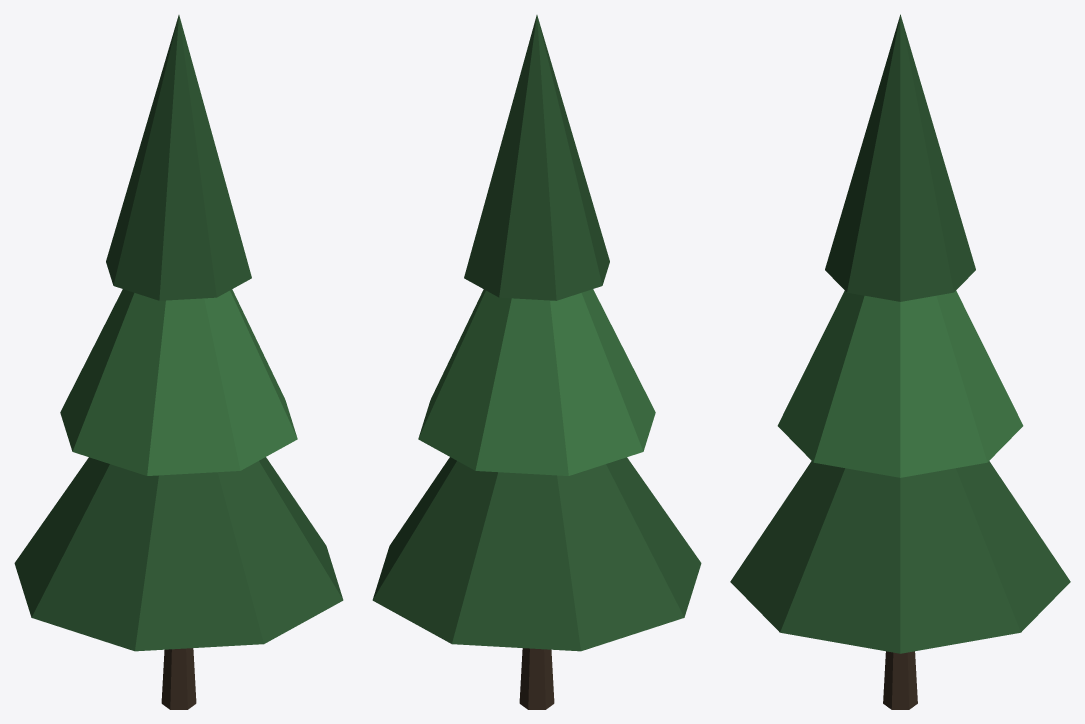
File: conifer-v2-spring.glb
3 views of the same model, side by side, from view 1: azimuth 30°, elevation 25°; view 2: azimuth 150°, elevation 25°; view 3: azimuth 270°, elevation 25° (orthographic).
Visible parts, largest first — view 1: conifer_v2; view 2: conifer_v2; view 3: conifer_v2.
Part boxes in pixels (x1,y1,x2,y2): conifer_v2: (14,15,343,709); conifer_v2: (372,15,701,709); conifer_v2: (730,14,1070,709).
Size of what is drawn, in the model's own units: 5.07 by 11.33 by 5.07.
